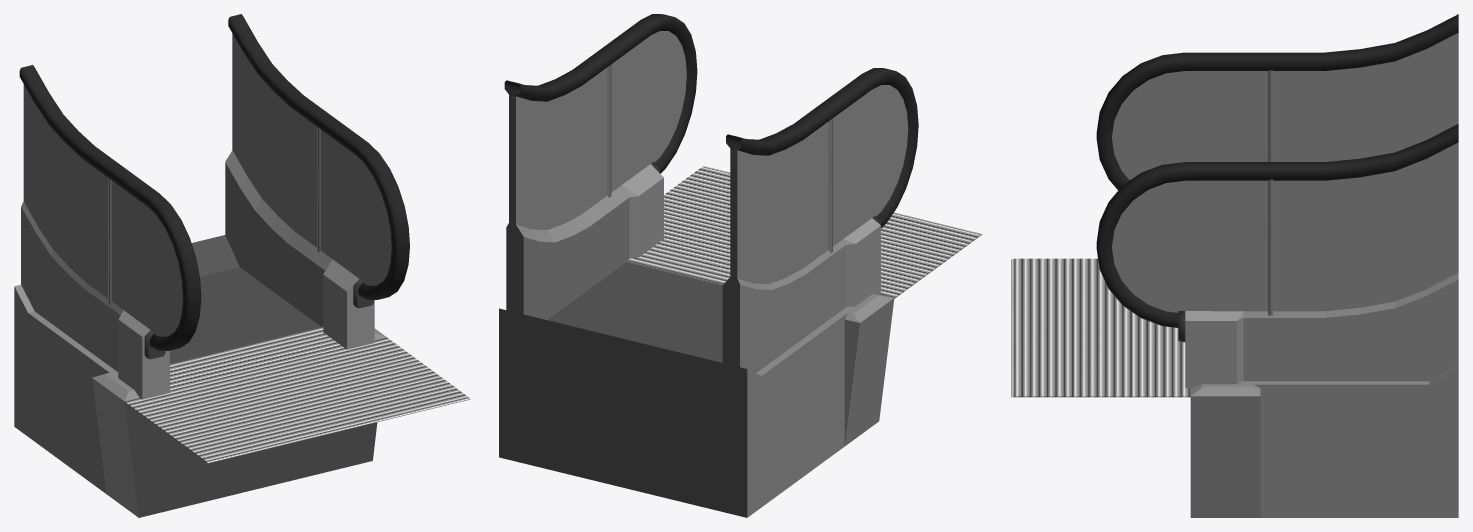
The model's file is SW_ENV_Escalator_BottomSteps_Base.fbx.
The picture shows the model from 3 angles, left to right: view 1: azimuth 30°, elevation 25°; view 2: azimuth 150°, elevation 25°; view 3: azimuth 270°, elevation 25°; orthographic projection. The views are drawn at different scales.
Visible parts, largest first — view 1: SW_ENV_Escalator_BottomSteps_Base; view 2: SW_ENV_Escalator_BottomSteps_Base; view 3: SW_ENV_Escalator_BottomSteps_Base.
Boxes of the visible parts, bbox=[...] form: SW_ENV_Escalator_BottomSteps_Base: bbox=[14, 14, 470, 517]; SW_ENV_Escalator_BottomSteps_Base: bbox=[499, 14, 982, 517]; SW_ENV_Escalator_BottomSteps_Base: bbox=[1011, 14, 1458, 517].
Bounding box in the file's own units: 1.4 × 1.82 × 1.92.
